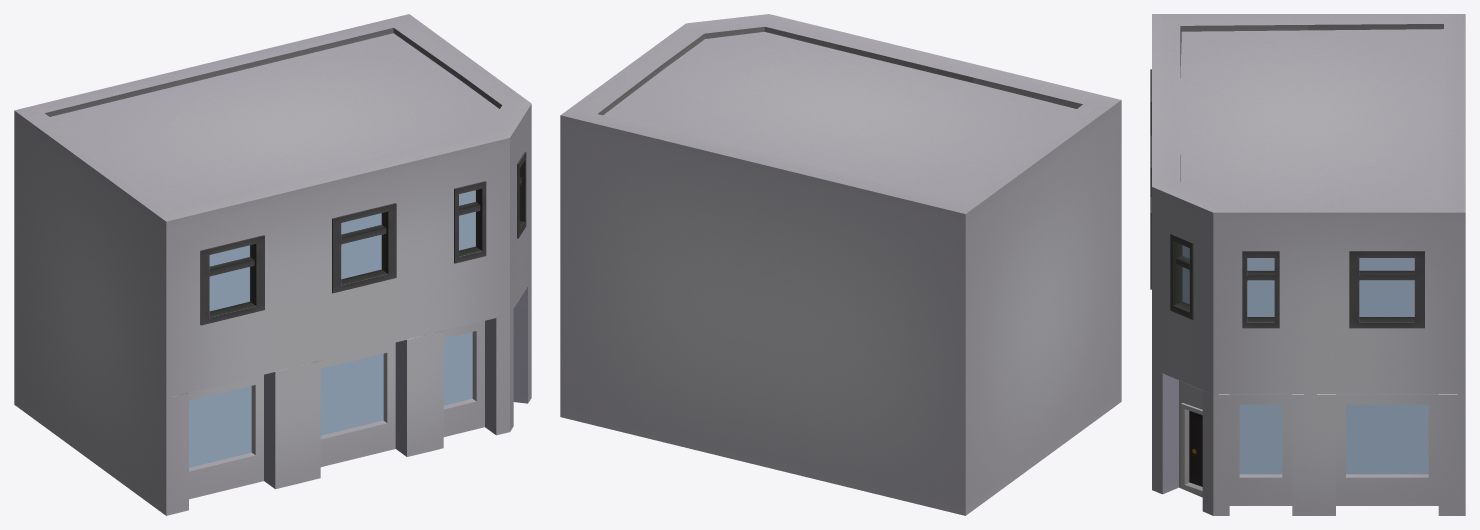
Rendered from House_07_UV_Color.fbx.
The picture shows the model from 3 angles, left to right: view 1: azimuth 30°, elevation 25°; view 2: azimuth 150°, elevation 25°; view 3: azimuth 270°, elevation 25°; orthographic projection. The views are drawn at different scales.
Parts seen in each view (by area): view 1: House_07_UV_Color; view 2: House_07_UV_Color; view 3: House_07_UV_Color.
Boxes of the visible parts, x1,y1,x2,y2 form: House_07_UV_Color: (14,14,531,515); House_07_UV_Color: (560,14,1121,515); House_07_UV_Color: (1150,14,1465,515).
Size of the model in its own units: 1661 by 1178 by 1109.
